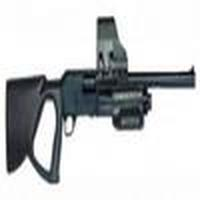gun: (6, 64, 198, 175)
